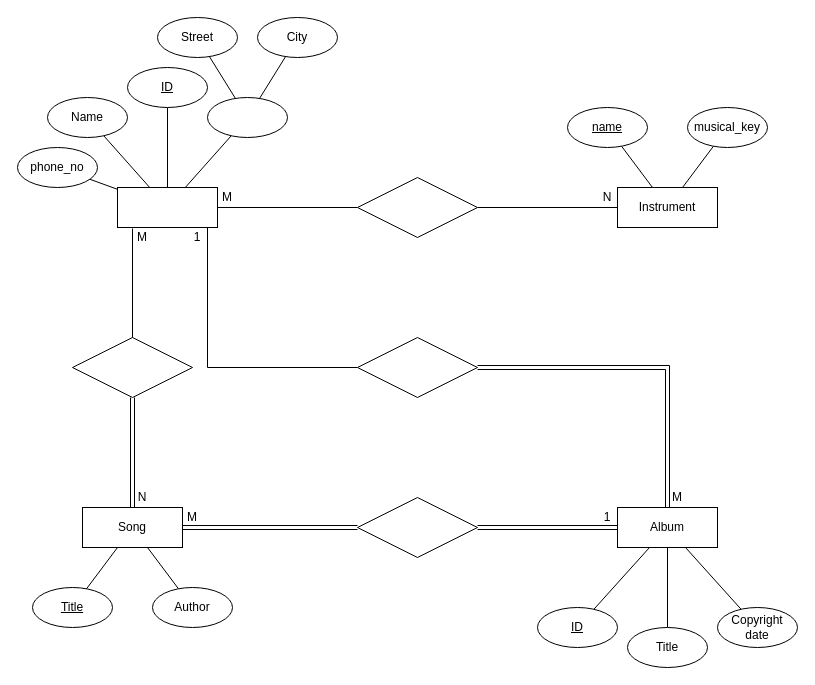
The diagram is 815 pixels wide and 685 high, and some of its shapes have lost their labels. Each missing label, with the centre of its shape:
A ddress: the point at 247,117
Has: the point at 417,527
Musician: the point at 167,207
Perform: the point at 132,367
Produce: the point at 417,367
Use: the point at 417,207
